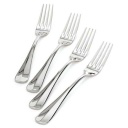fork: (56, 10, 112, 114)
